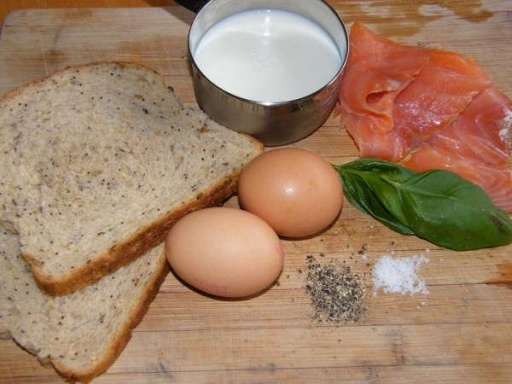background: (0, 11, 410, 230), (121, 4, 274, 61)
